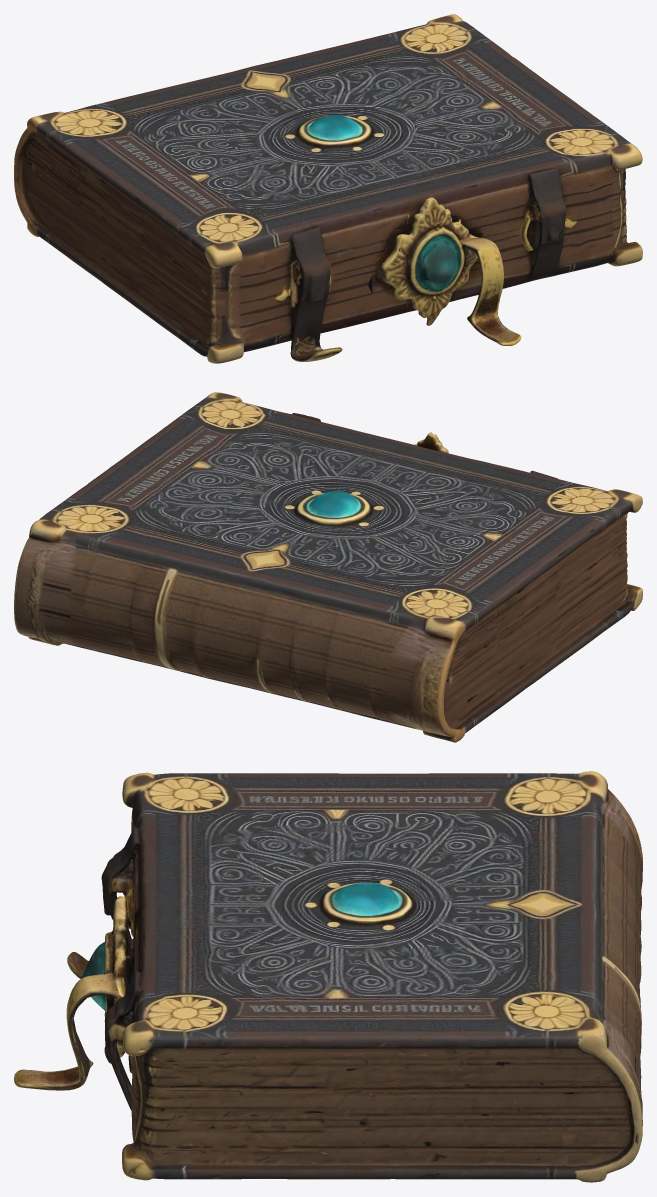
Rendered from apex-fantasia-grimorio.glb.
3 renders of one model, top to bottom at view 1: azimuth 30°, elevation 25°; view 2: azimuth 150°, elevation 25°; view 3: azimuth 270°, elevation 25°, orthographic. The views are drawn at different scales.
Size of the model in its own units: 2 by 0.6092 by 2.
1 material, 1 textured.
